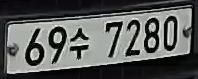0: (161, 14, 180, 52)
2: (124, 18, 144, 57)
6: (23, 25, 47, 69)
7: (103, 19, 124, 58)
8: (143, 16, 162, 54)
9: (47, 25, 69, 65)
수: (69, 25, 91, 62)
